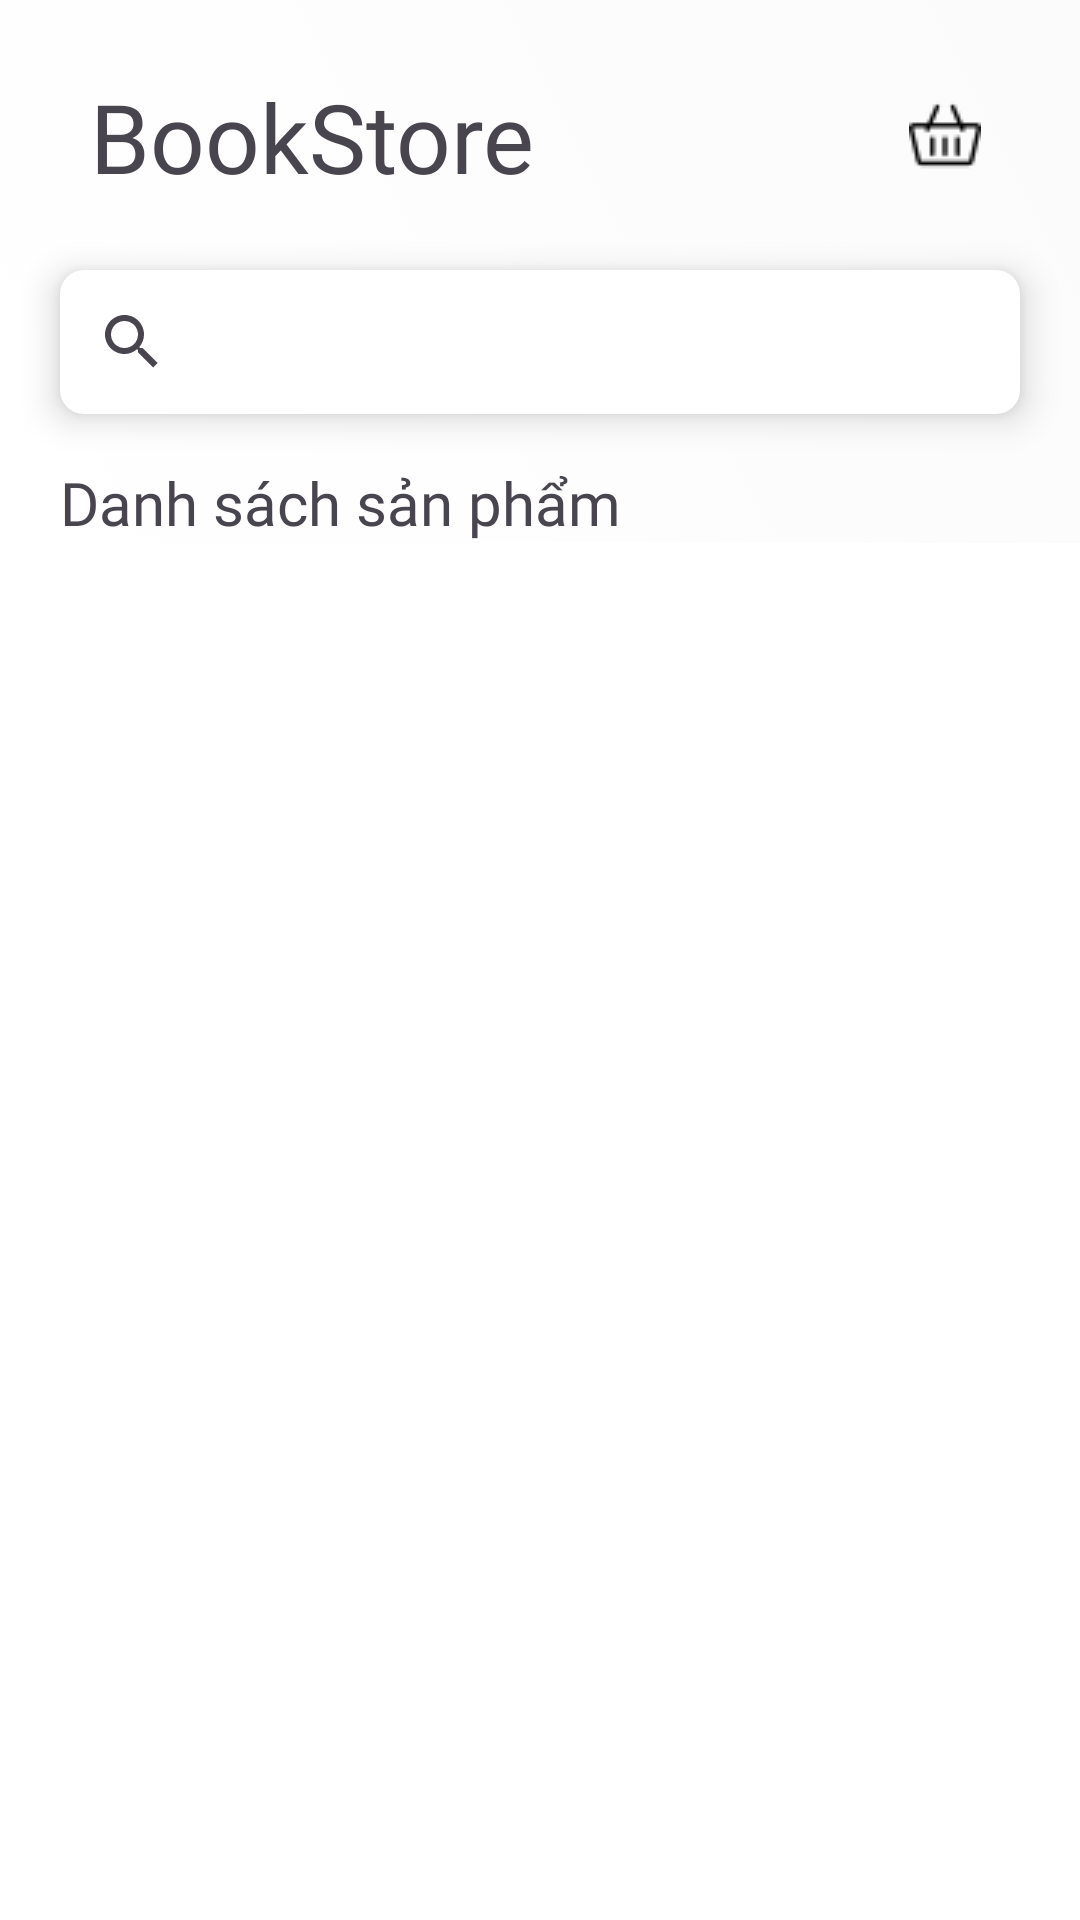

Icon bounding boxes for this 1080 × 1920 phone screenshot, format (x1, y1, x2, y2):
Cart: (909, 104, 981, 167)
